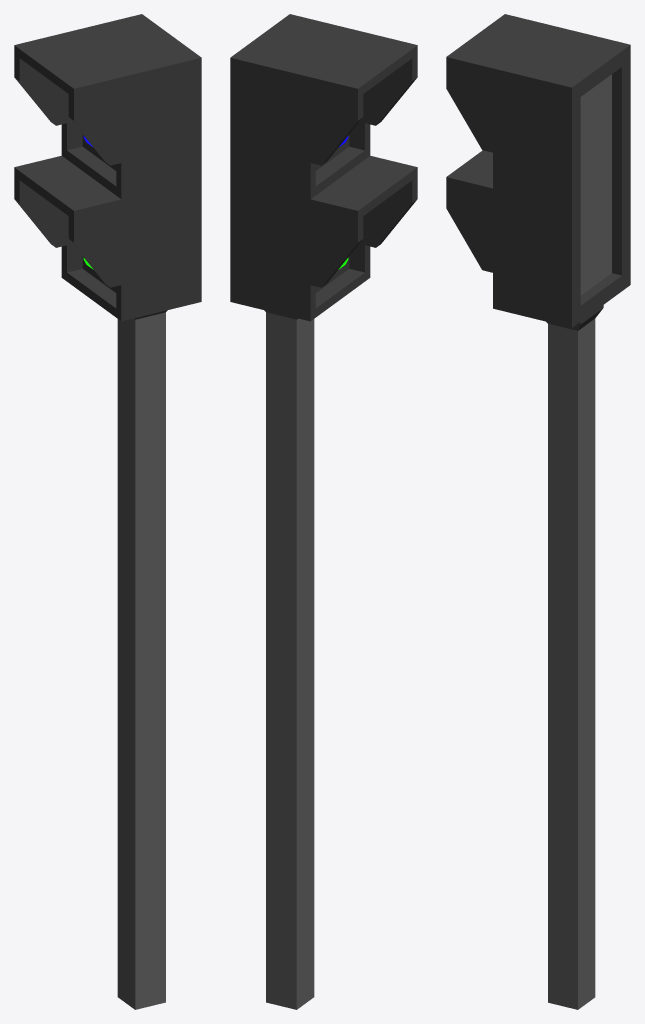
The model's file is Traffic_Light_Crossing.FBX.
The picture shows the model from 3 angles, left to right: view 1: azimuth 30°, elevation 25°; view 2: azimuth 150°, elevation 25°; view 3: azimuth 330°, elevation 25°; orthographic projection.
Parts seen in each view (by area): view 1: Traffic_Light_Crossing_LOD0; view 2: Traffic_Light_Crossing_LOD0; view 3: Traffic_Light_Crossing_LOD0.
Part boxes in pixels (x1,y1,x2,y2): Traffic_Light_Crossing_LOD0: (14, 14, 201, 1009); Traffic_Light_Crossing_LOD0: (230, 14, 417, 1009); Traffic_Light_Crossing_LOD0: (446, 14, 630, 1009).
Size of what is drawn, in the model's own units: 20.35 by 145 by 16.46.
